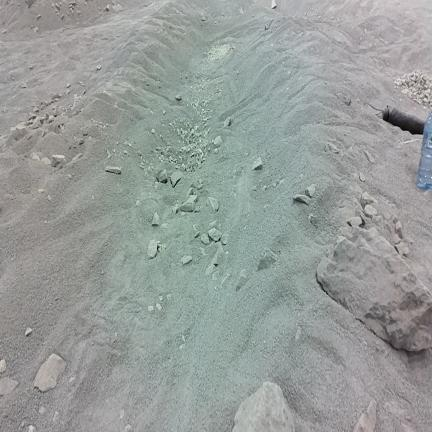Rock: (317, 227, 431, 350), (233, 382, 294, 431), (34, 354, 66, 391), (354, 400, 376, 431), (258, 248, 277, 270), (338, 204, 355, 222), (8, 125, 27, 141), (0, 378, 17, 395), (180, 195, 196, 211), (42, 124, 59, 137), (147, 239, 158, 259), (395, 241, 409, 256), (361, 192, 374, 208), (237, 269, 247, 289), (155, 170, 168, 184), (364, 204, 377, 218), (51, 155, 66, 167), (170, 171, 181, 187), (208, 228, 221, 241), (210, 251, 221, 265), (305, 184, 316, 198), (207, 197, 218, 211), (294, 195, 311, 204), (348, 216, 363, 226), (32, 116, 44, 128), (252, 157, 262, 170), (373, 215, 383, 228), (364, 150, 374, 163), (105, 166, 121, 174), (395, 221, 402, 238), (328, 143, 339, 153), (206, 264, 216, 275), (213, 136, 222, 148), (152, 213, 159, 226), (182, 256, 192, 265), (201, 234, 209, 245), (309, 214, 317, 225), (0, 359, 6, 373), (393, 234, 401, 244), (41, 157, 51, 165), (221, 234, 228, 245), (113, 4, 122, 12), (31, 153, 40, 161), (200, 12, 207, 22), (359, 172, 366, 182), (224, 117, 231, 127), (209, 220, 217, 228), (172, 205, 179, 214), (25, 328, 32, 336), (124, 425, 133, 431), (28, 425, 35, 431), (104, 4, 110, 11), (272, 0, 276, 8), (176, 94, 181, 100), (55, 4, 60, 10), (423, 76, 428, 81), (97, 65, 101, 71)
